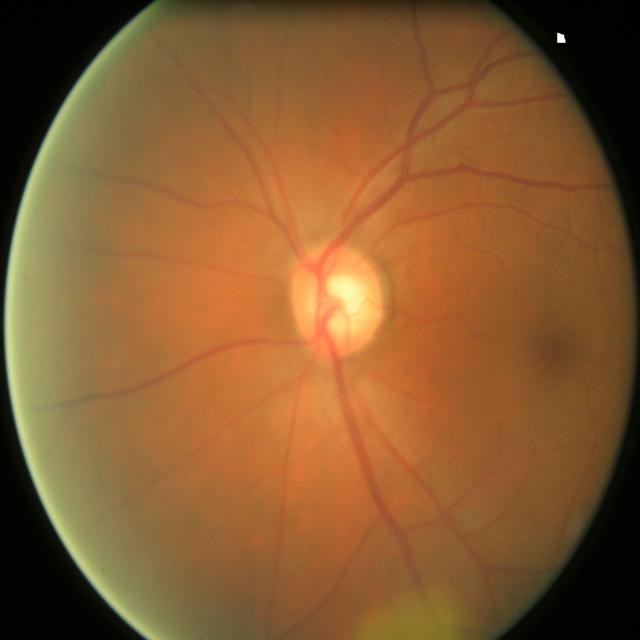OC: (322, 275, 367, 332)
OD: (290, 241, 386, 355)
